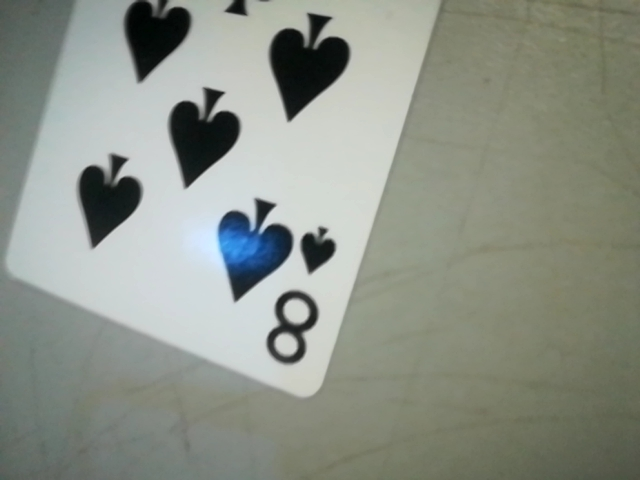ht 8: (257, 199, 342, 385)
